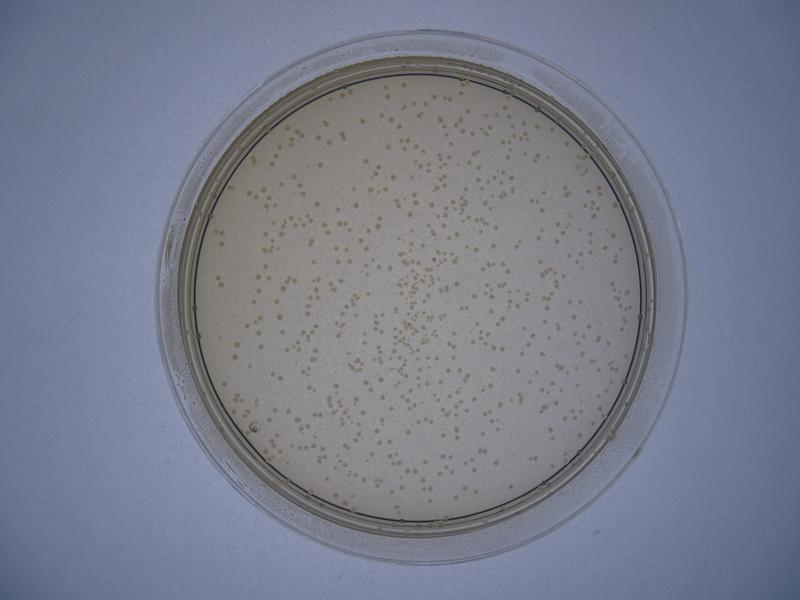colony: (501, 480, 518, 496), (310, 155, 327, 171), (270, 311, 286, 326), (357, 153, 371, 170), (484, 363, 500, 377), (400, 426, 413, 441)
